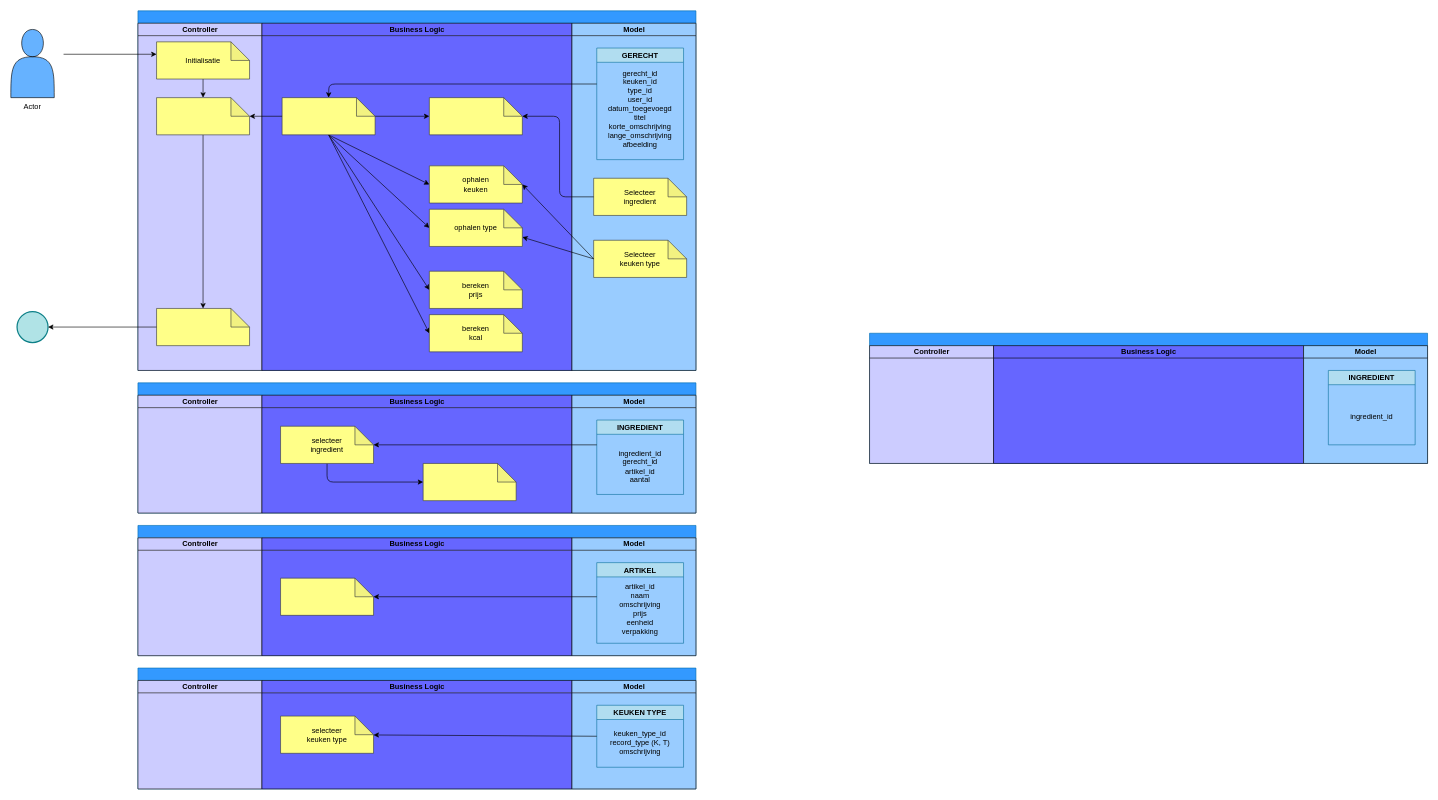
Some shapes in this 1438 by 800 pixel diagram are drawn without their labels. Each missing label, with the centre of its shape:
"ophalen artikel" belongs at (469,482).
"ophalen ingredient" belongs at (475,116).
"Recept ophalen" belongs at (203,116).
"recept tonen" belongs at (203,327).
"selecteer artikel" belongs at (327,596).
"Selecteer gerecht" belongs at (328,116).
